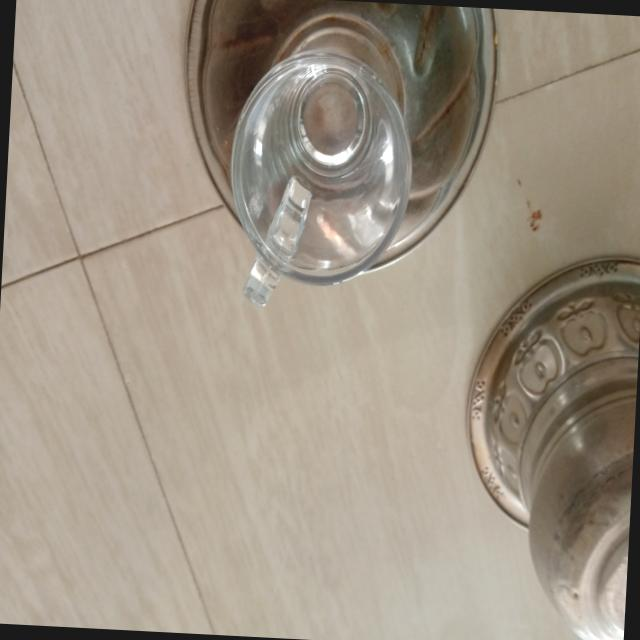glass-VX4N: (221, 48, 416, 316)
